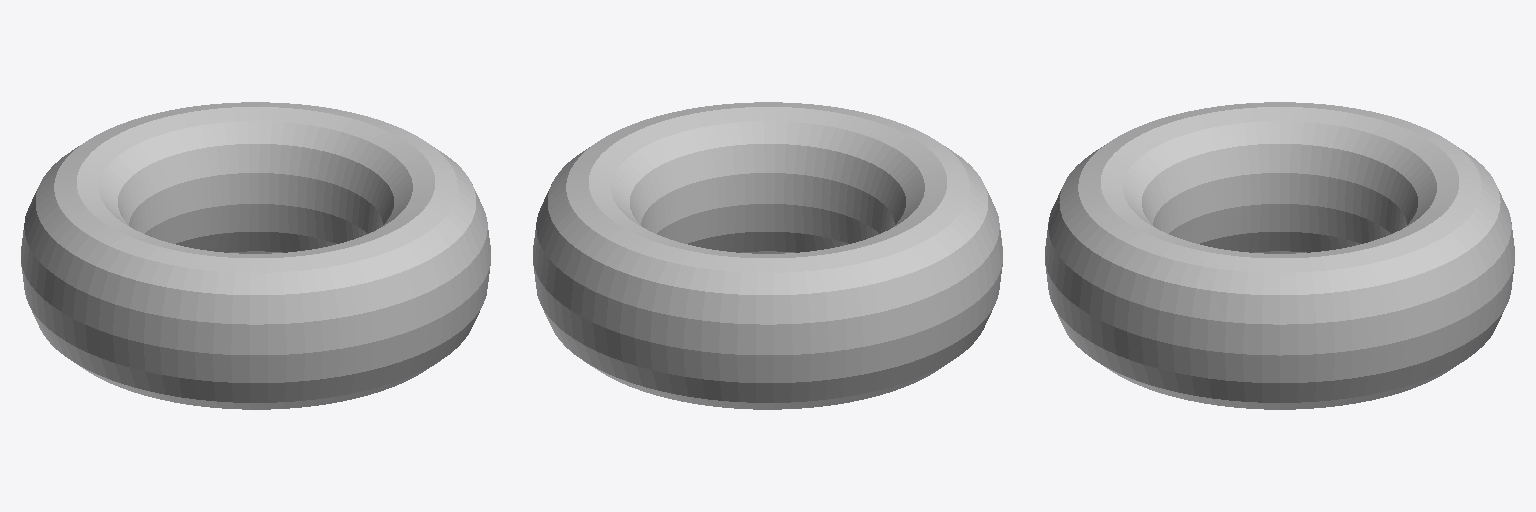
File: Doughnut 2 15 min painted.obj
The picture shows the model from 3 angles: view 1: azimuth 30°, elevation 25°; view 2: azimuth 150°, elevation 25°; view 3: azimuth 270°, elevation 25°; orthographic projection.
Visible parts, largest first — view 1: g pCylinder1_pCylinder1; view 2: g pCylinder1_pCylinder1; view 3: g pCylinder1_pCylinder1.
Boxes of the visible parts, <box> form: g pCylinder1_pCylinder1: <box>21,102,490,409</box>; g pCylinder1_pCylinder1: <box>533,102,1002,409</box>; g pCylinder1_pCylinder1: <box>1045,102,1514,409</box>.
Bounding box in the file's own units: 8.09 × 2.78 × 8.09.